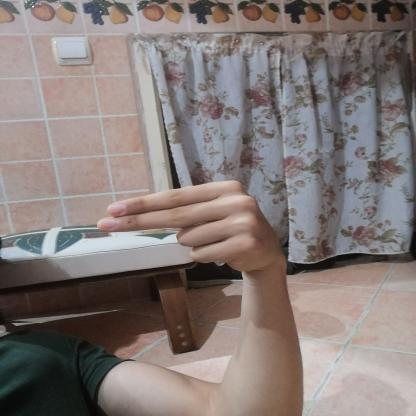AYN: (83, 171, 300, 280)
